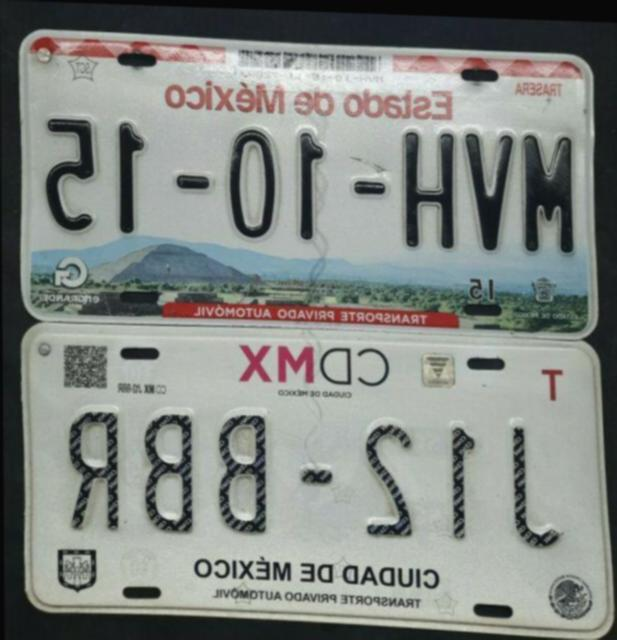License_Plate: (22, 318, 611, 633), (24, 24, 608, 340)
